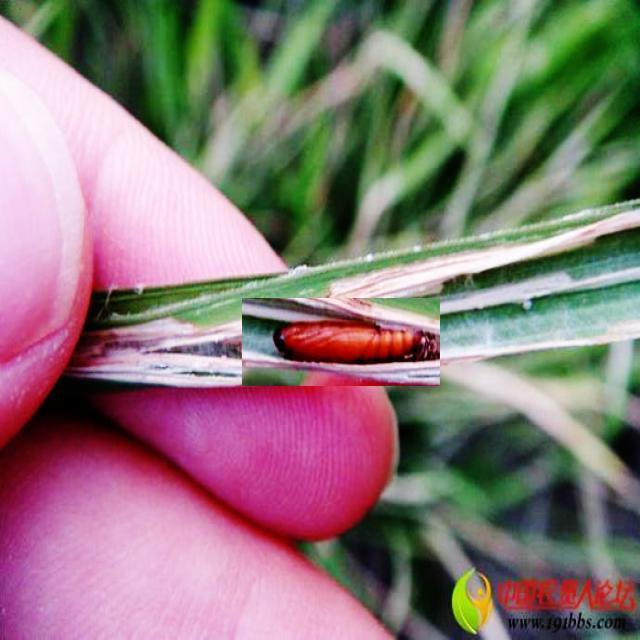leaf-folder: (243, 298, 441, 386)
